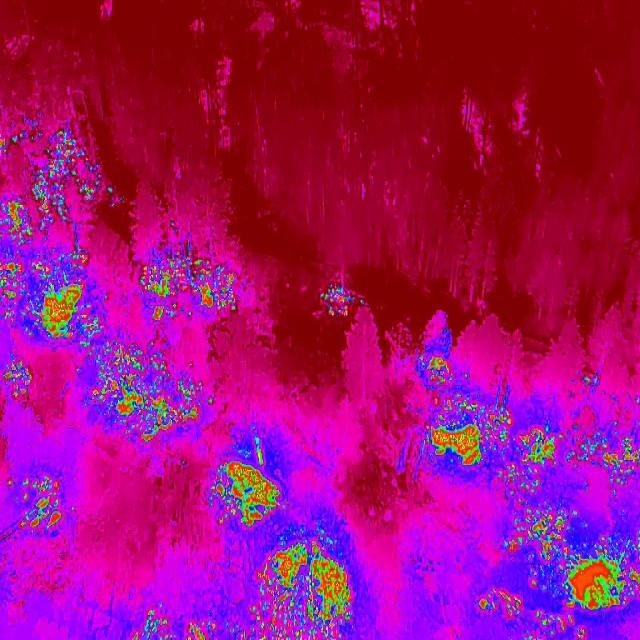fire: (479, 426, 640, 640), (0, 114, 111, 353), (84, 336, 220, 446), (402, 355, 512, 476), (245, 535, 360, 640), (124, 248, 240, 334), (204, 460, 305, 531), (8, 462, 79, 540), (132, 605, 216, 640), (320, 274, 369, 326), (0, 353, 30, 408)
